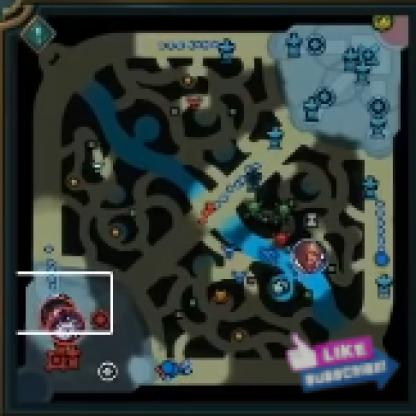Lucian: (293, 238, 329, 276)
Lulu: (50, 311, 86, 344)
